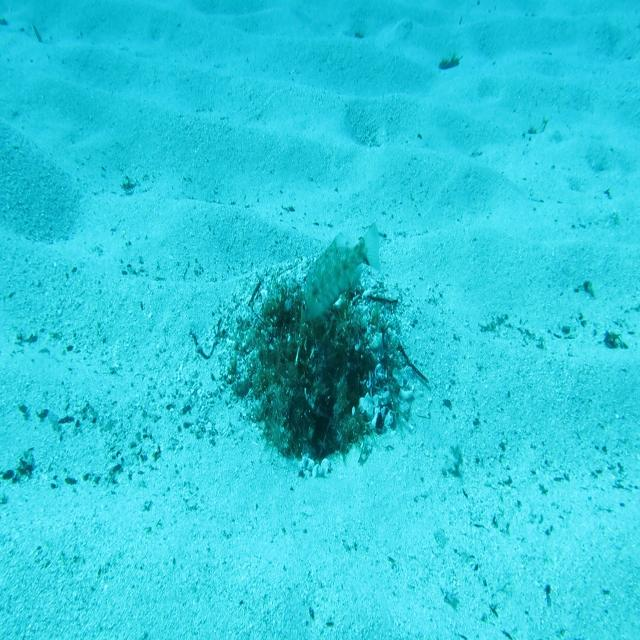INSF: (299, 219, 383, 328)
core_nest: (287, 306, 338, 340)
nest: (210, 254, 419, 484)
vegetation: (437, 51, 462, 74)
